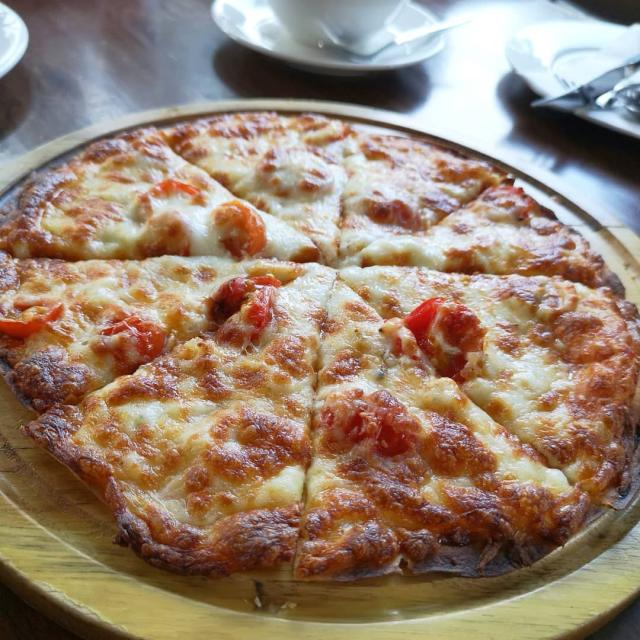pizza: (0, 108, 640, 584)
tomatoes: (98, 317, 166, 359), (218, 292, 270, 342), (220, 203, 269, 256), (0, 300, 64, 337), (404, 296, 448, 336), (143, 179, 204, 201), (216, 275, 252, 305), (251, 276, 285, 287)
